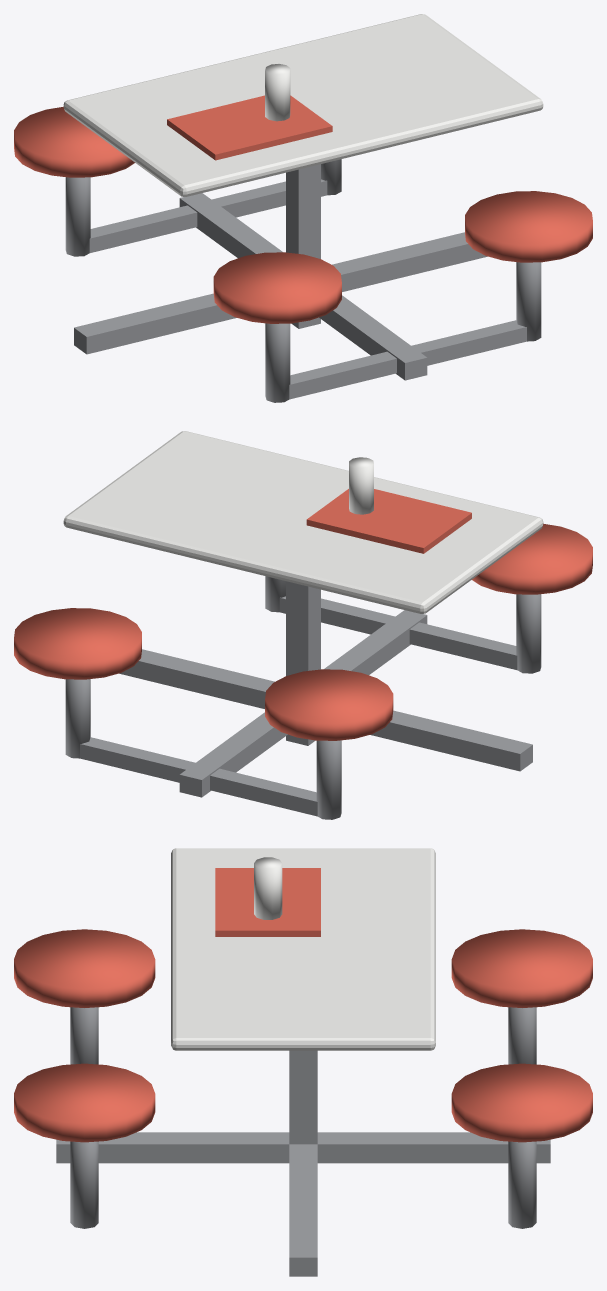
File: food_court_table.glb
The picture shows the model from 3 angles, top to bottom: view 1: azimuth 30°, elevation 25°; view 2: azimuth 150°, elevation 25°; view 3: azimuth 270°, elevation 25°; orthographic projection. The views are drawn at different scales.
Visible parts, largest first — view 1: food_court_table; view 2: food_court_table; view 3: food_court_table.
Part boxes in pixels (<box>): food_court_table: <box>14,14,592,402</box>; food_court_table: <box>14,431,592,819</box>; food_court_table: <box>14,848,592,1276</box>.
Size of the model in its own units: 1.6 by 0.94 by 1.64.
